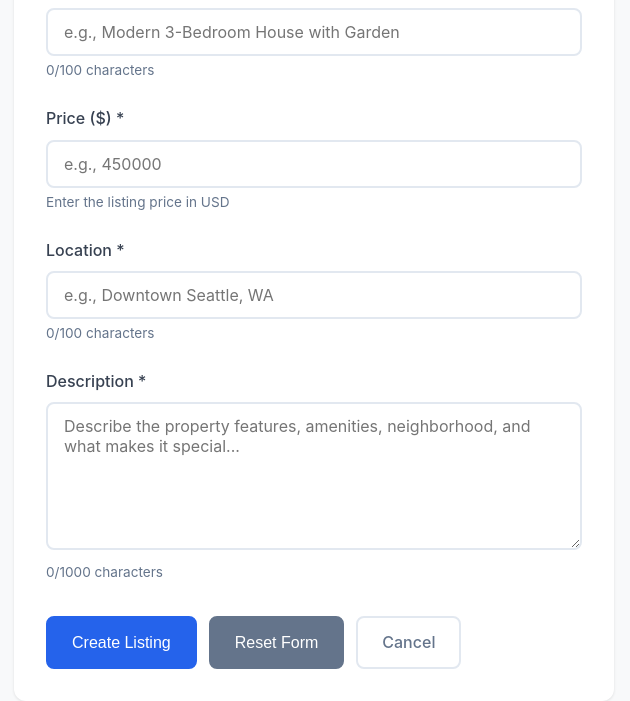
AddListing Component - Edge Cases › shows validation errors for empty required fields
(page scrolled)
# Try to submit empty form
Click the button "Create Listing".
click(121, 643)  # box x1=46 y1=616 x2=197 y2=669
(page scrolled)
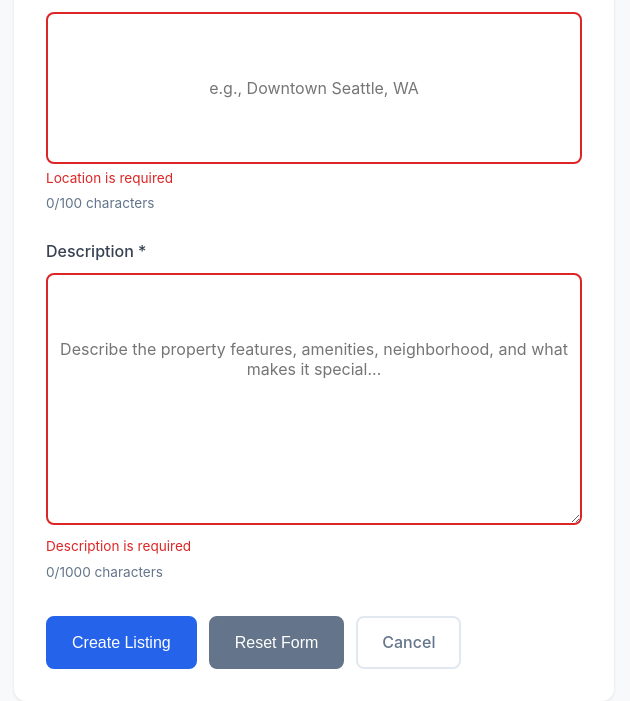
Expected: the text "Location is required" is shown, x1=46 y1=170 x2=173 y2=186
Expected: the text "Description is required" is shown, x1=46 y1=538 x2=191 y2=554
